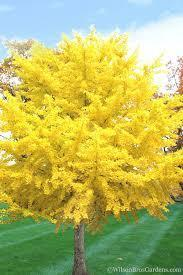tree: (5, 25, 183, 273)
